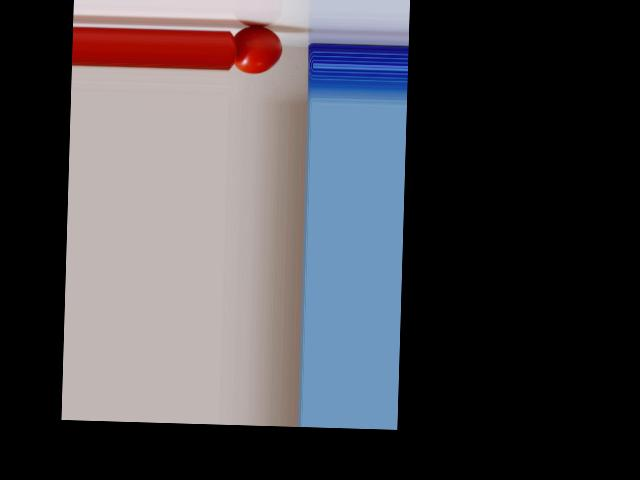tomato: (234, 25, 282, 74)
